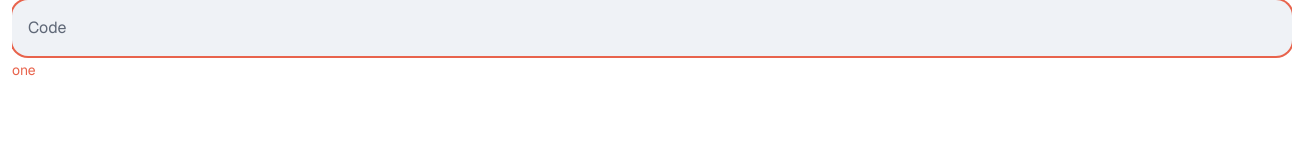
Test: an error goes at the first change of the value, in any field (no help from the form) › a new error text brings the error back at once
The width and height of the screenshot is (1292, 160).
Later steps or results of the test are not shown.
Step 1. Type "a" into the field labelled "Code" → (634, 37), box [28,25,1240,49]
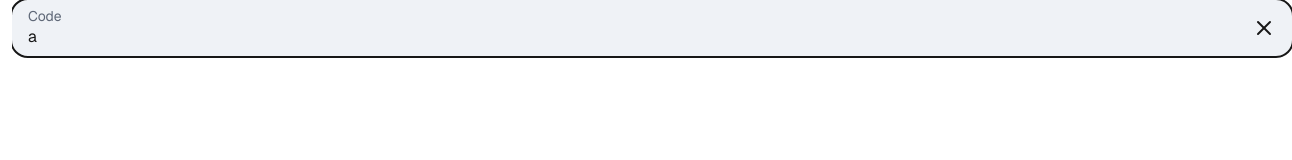
Result: the text "one" is gone
